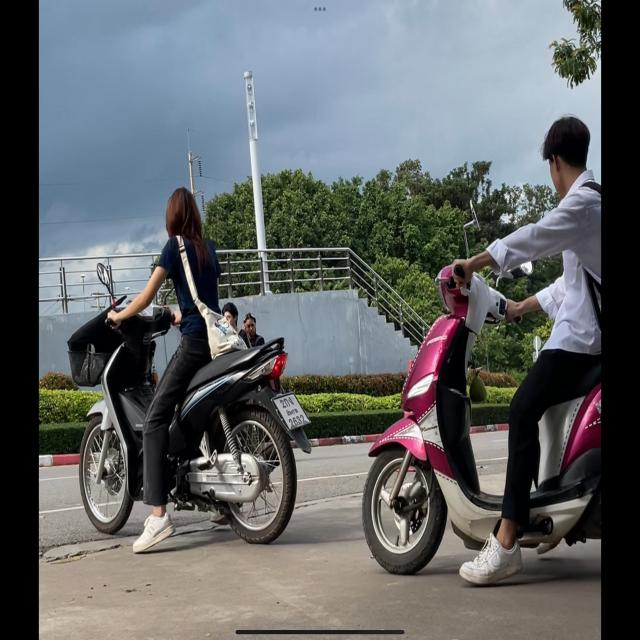seatbelt: (540, 111, 592, 193), (163, 185, 199, 240), (242, 312, 258, 338)
